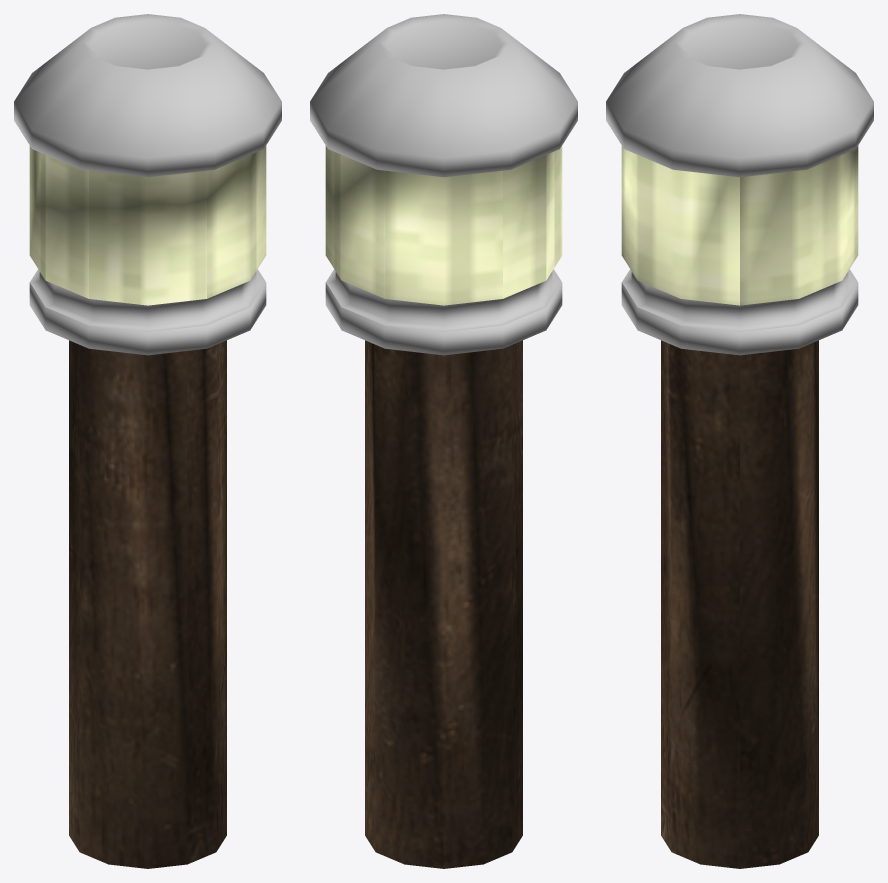
Rendered from TrailLight.fbx.
3 views of the same model, side by side, from view 1: azimuth 30°, elevation 25°; view 2: azimuth 150°, elevation 25°; view 3: azimuth 270°, elevation 25° (orthographic).
Parts seen in each view (by area): view 1: Trail Light; view 2: Trail Light; view 3: Trail Light.
Part boxes in pixels (<box>): Trail Light: <box>14,14,281,868</box>; Trail Light: <box>310,14,577,868</box>; Trail Light: <box>606,14,873,868</box>.
Bounding box in the file's own units: 67.97 × 222 × 67.97.
